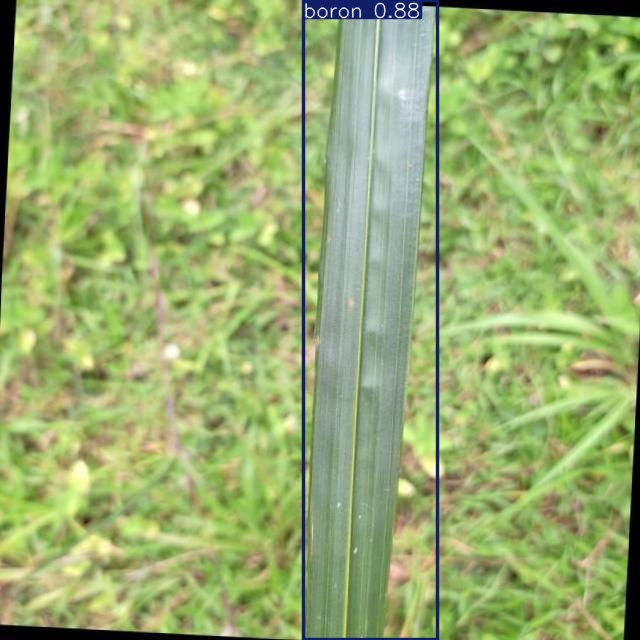nitrogen: (303, 1, 437, 640)
